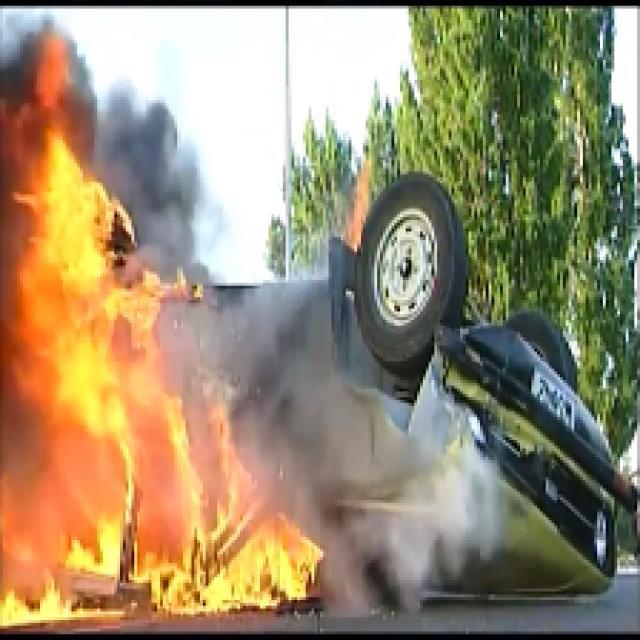Fire: (6, 37, 323, 632)
Smoke: (248, 303, 463, 508)
